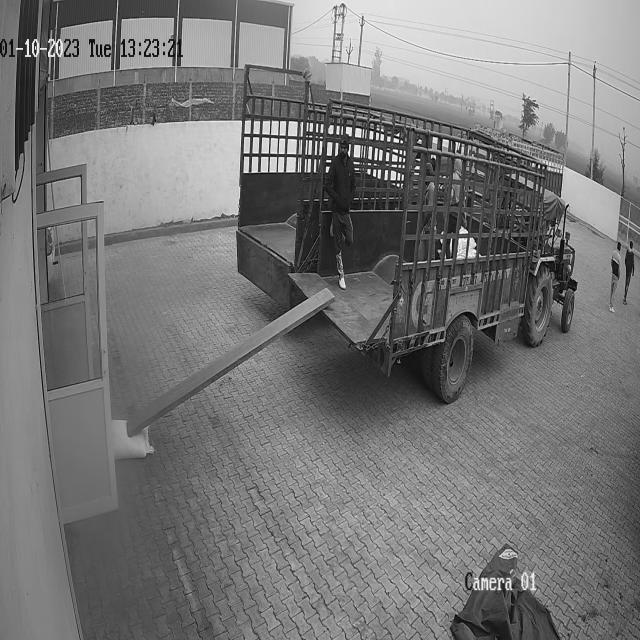sack: (110, 418, 154, 461)
